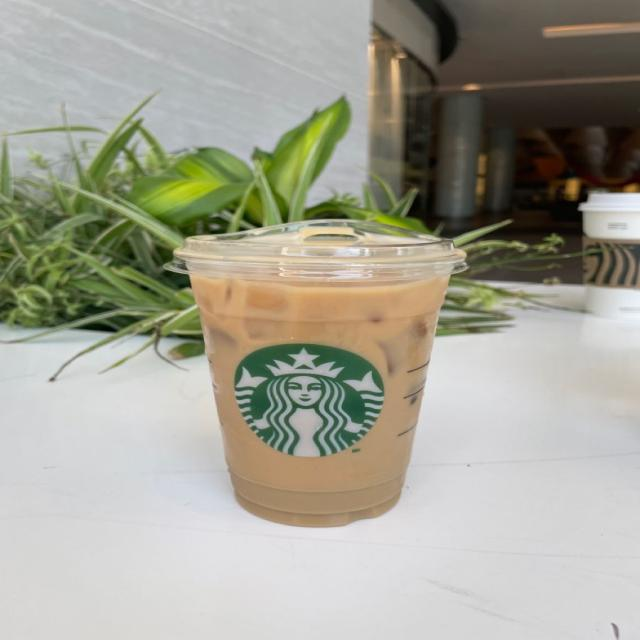plastic cup: (165, 220, 468, 527)
